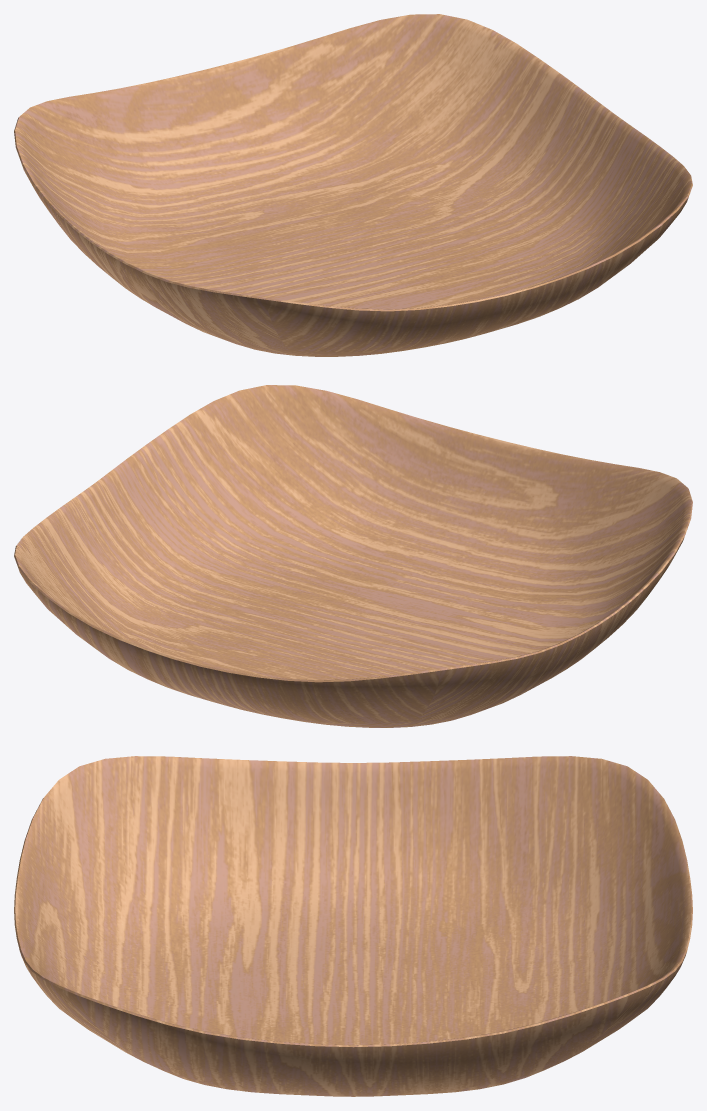
The model's file is dish.fbx.
3 views of the same model, one above another, from view 1: azimuth 30°, elevation 25°; view 2: azimuth 150°, elevation 25°; view 3: azimuth 270°, elevation 25° (orthographic). The views are drawn at different scales.
Parts seen in each view (by area): view 1: dish; view 2: dish; view 3: dish.
Boxes of the visible parts, x1,y1,x2,y2 form: dish: [14, 14, 692, 356]; dish: [14, 385, 692, 727]; dish: [14, 756, 692, 1096].
Size of the model in its own units: 11.7 by 3.13 by 11.85.
Materials: 1 (1 with a texture image).
